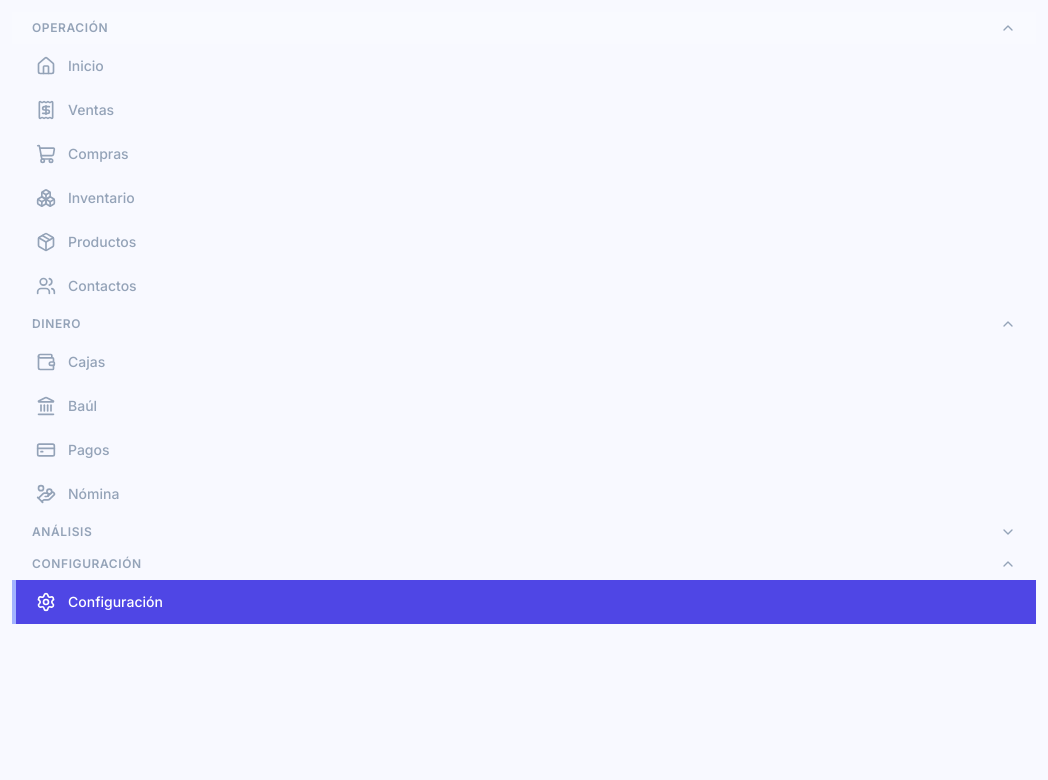
Test: AppNavLinks › lets the user collapse the active group
The width and height of the screenshot is (1048, 780).
Click the button "Configuración".
click(87, 564)  # box x1=12 y1=548 x2=1036 y2=580
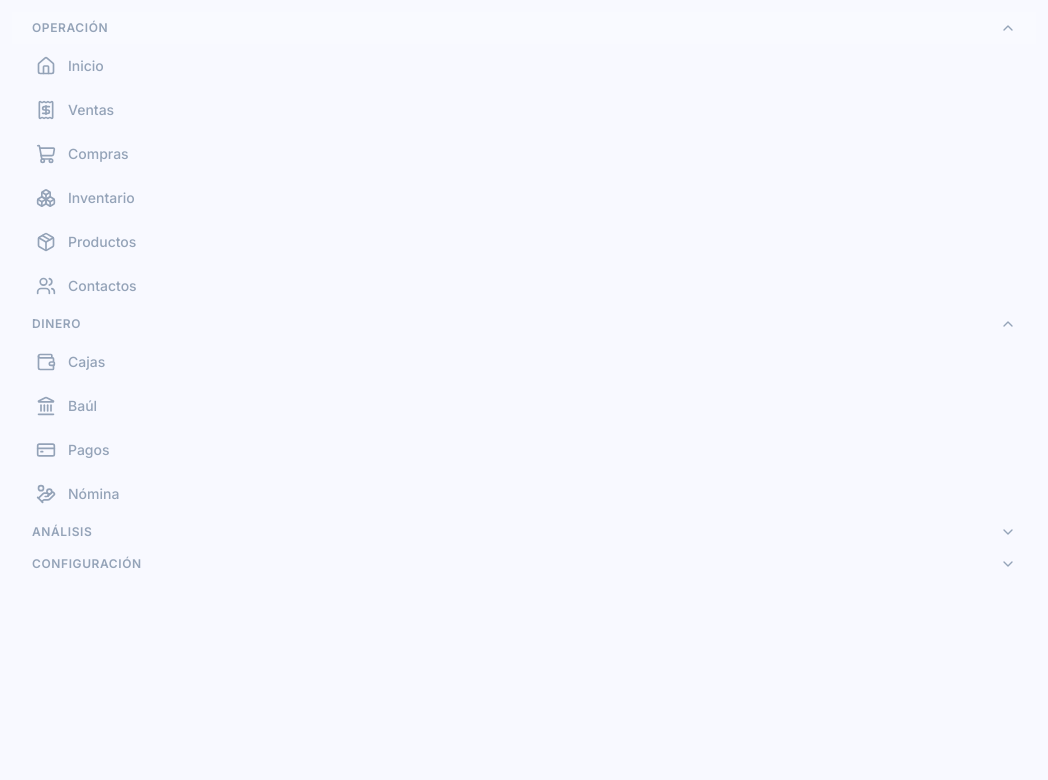
Expected: the button "Configuración" is collapsed, x1=12 y1=548 x2=1036 y2=580
